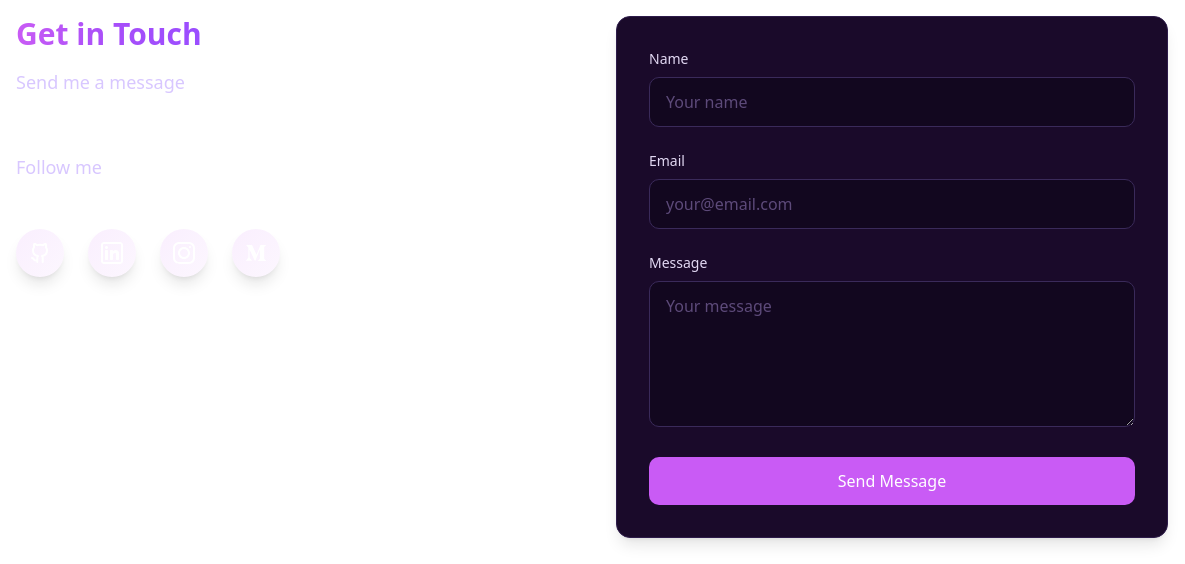
ContactForm › form submission › submits successfully with valid data
The image size is (1185, 564).
Type "John Doe" into the field labelled "Name" at {"x": 892, "y": 102}, box [649,77,1135,127]
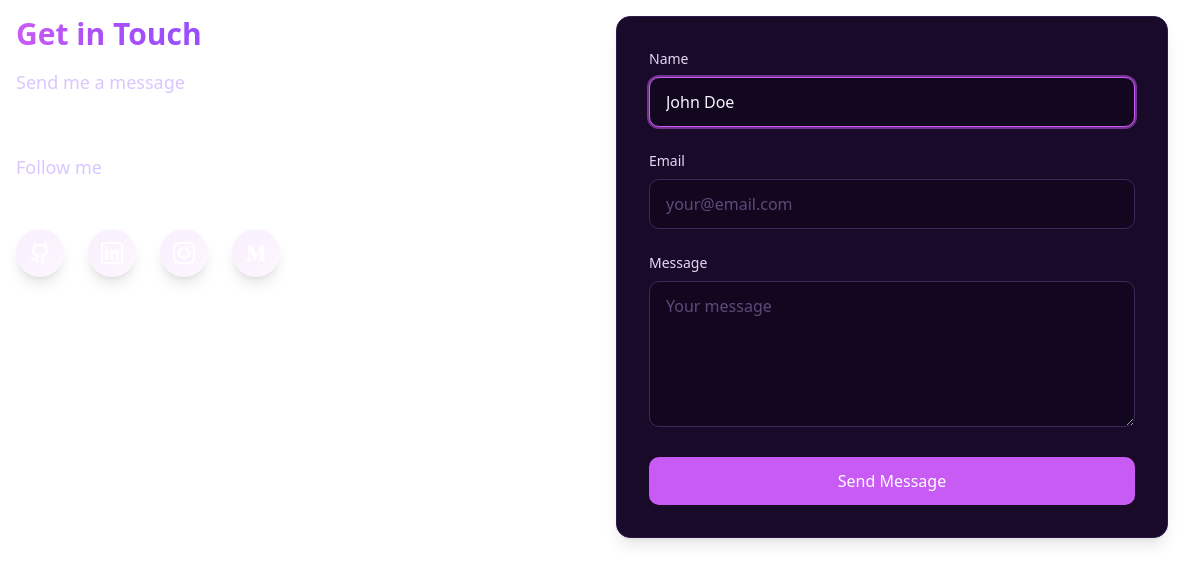
Type "john@example.com" into the field labelled "Email" at {"x": 892, "y": 204}, box [649,179,1135,229]
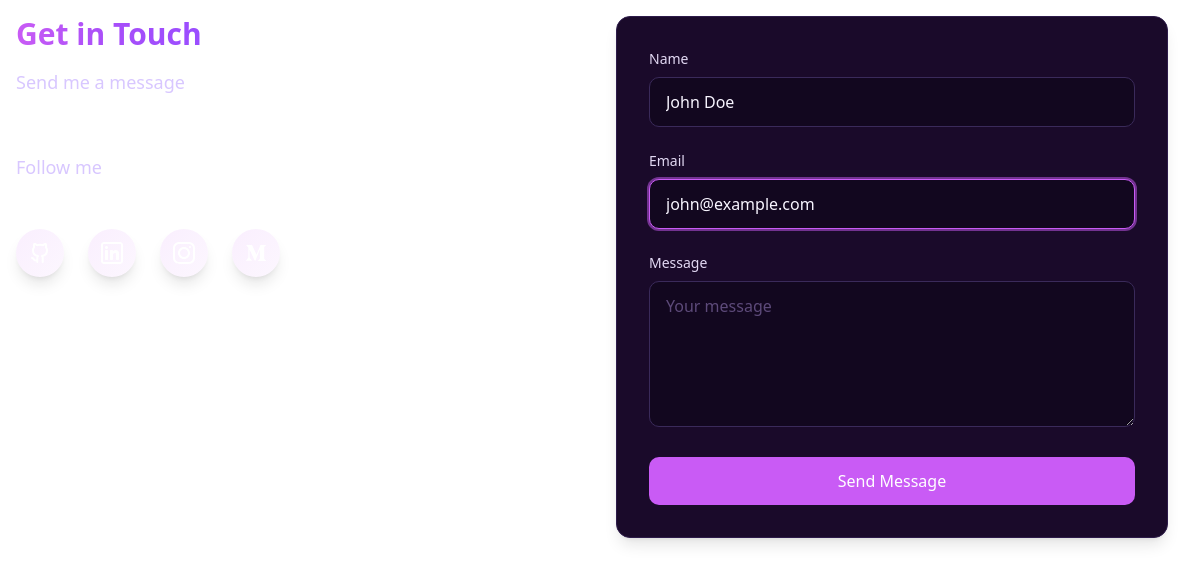
Type "Hello, this is a test message" into the text box labelled "Message" at {"x": 892, "y": 354}, box [649,281,1135,427]
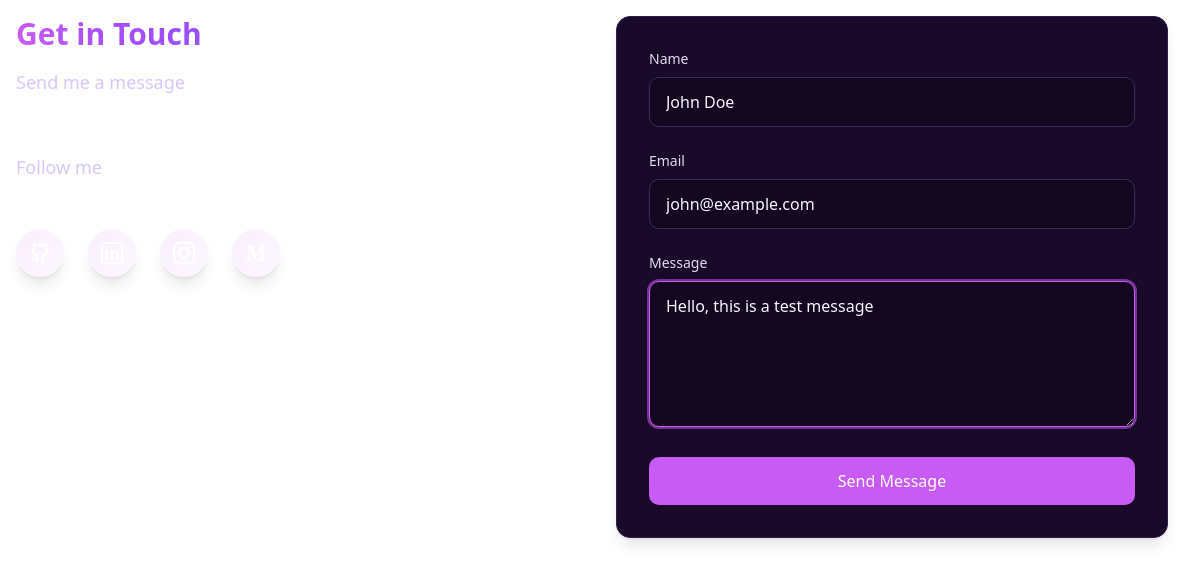
Click the button "Send Message" at {"x": 892, "y": 481}, box [649,457,1135,505]
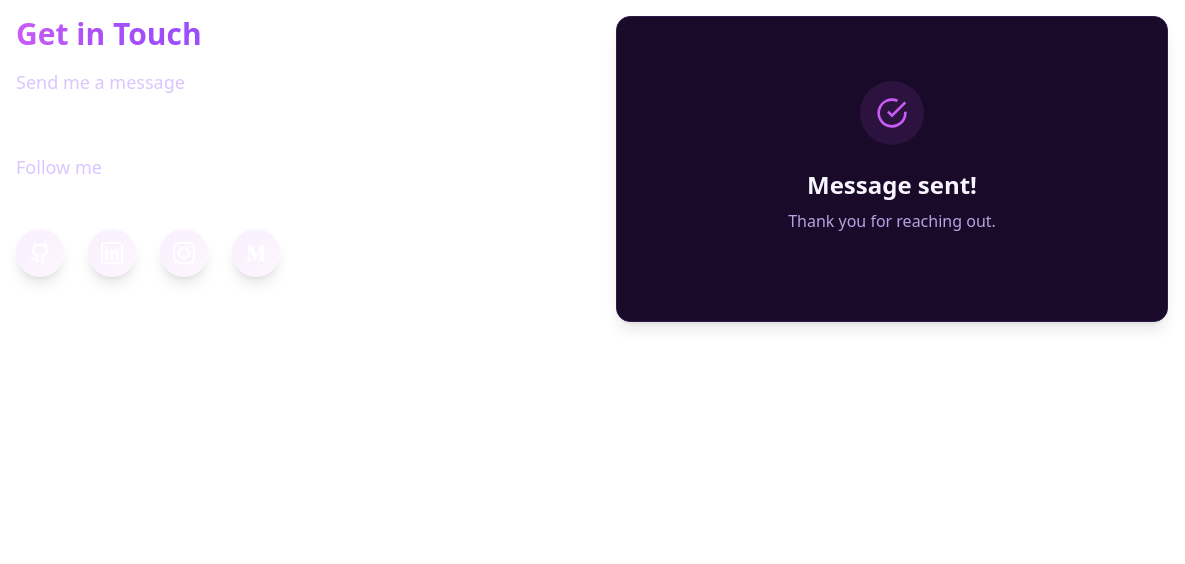
Expected: the heading "Message sent!" is shown, [807,168,977,201]
